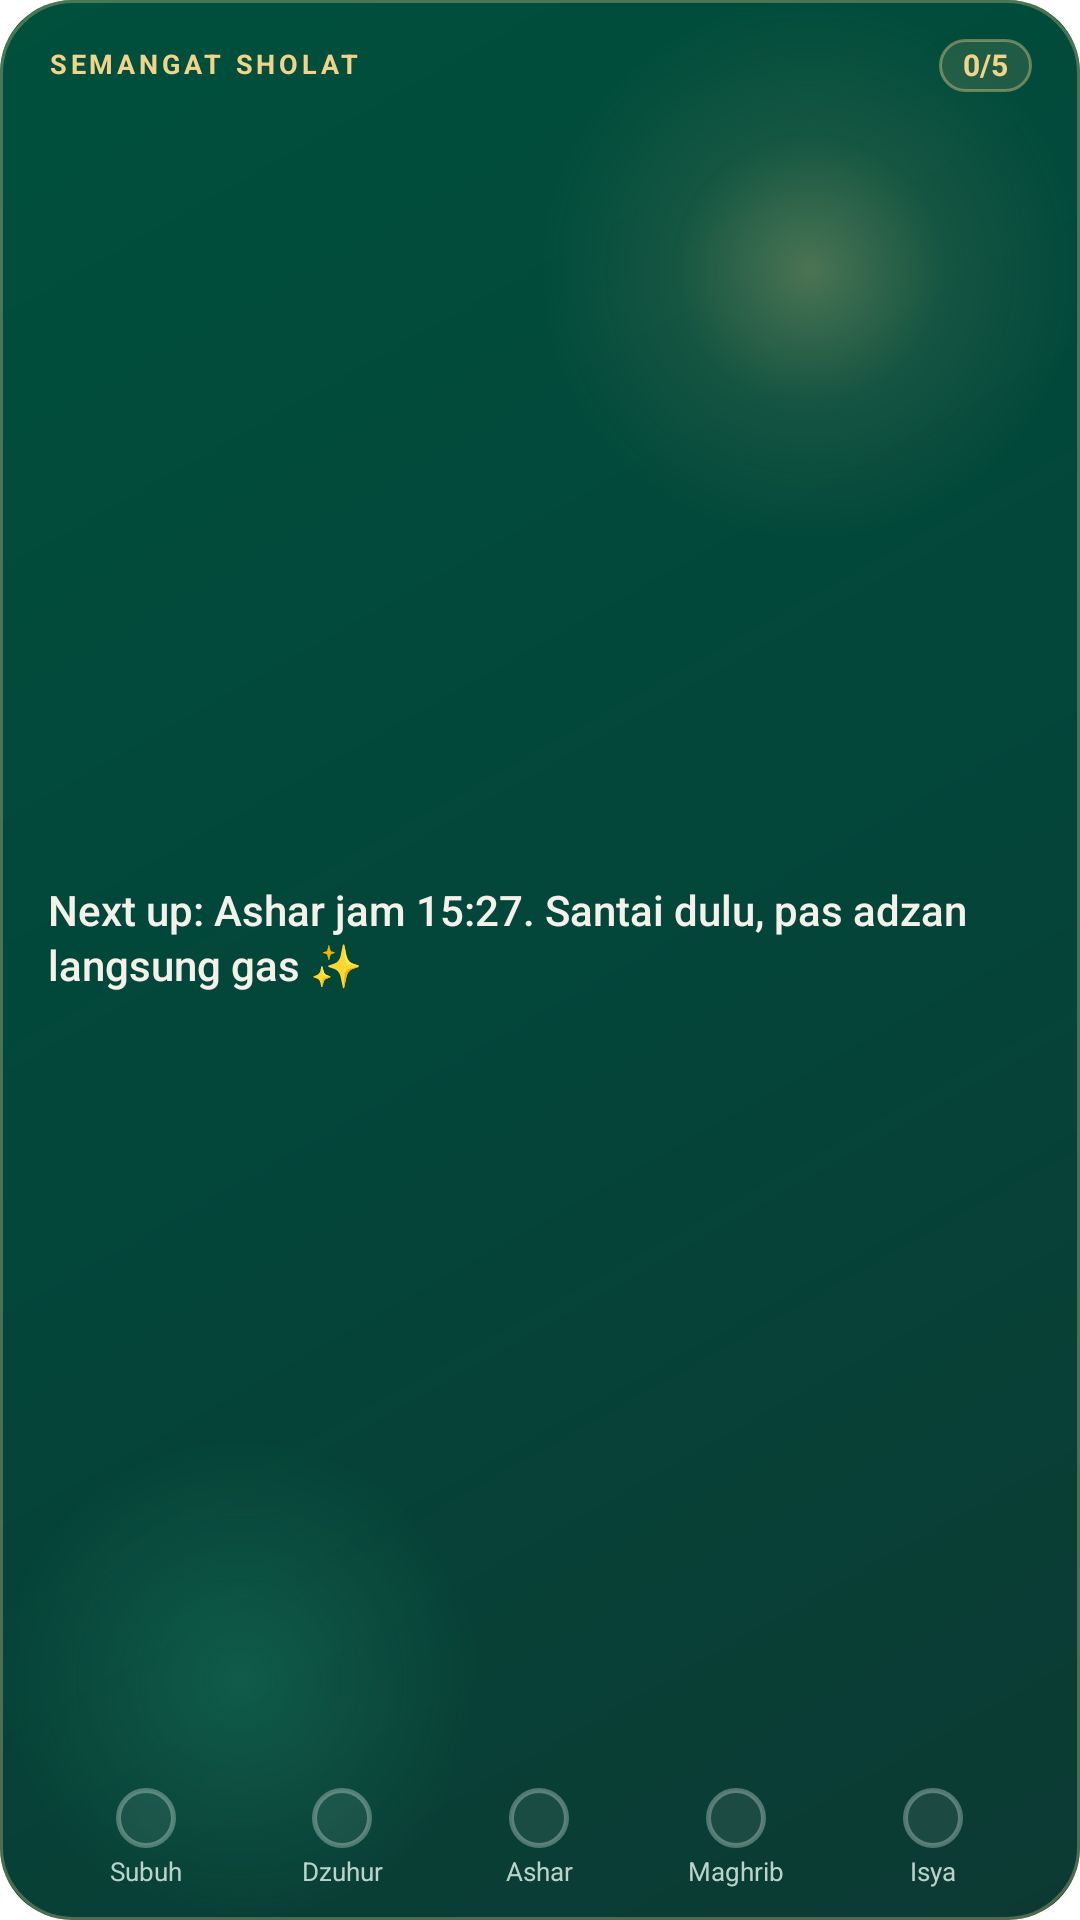

Icons on this 1080w x 1920h Android screen, each with its box as box(x1, y1, x2, y2):
tracker dot todo: box(116, 1788, 176, 1848), box(312, 1788, 372, 1848), box(509, 1788, 569, 1848), box(706, 1788, 766, 1848), box(903, 1788, 963, 1848)
